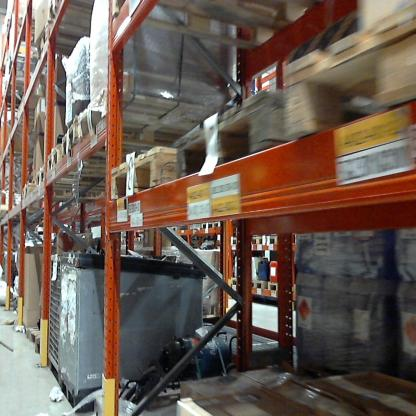pallet: (172, 77, 324, 191), (283, 5, 413, 125), (85, 1, 340, 57), (76, 91, 196, 149), (62, 114, 153, 165), (32, 28, 132, 74), (103, 140, 178, 198), (47, 0, 138, 41), (47, 143, 125, 180), (33, 162, 109, 197), (19, 184, 108, 206), (184, 300, 222, 323), (33, 333, 53, 367), (266, 231, 295, 247), (220, 271, 244, 290), (24, 319, 39, 345), (246, 235, 269, 250), (266, 282, 295, 292), (248, 277, 267, 292), (199, 220, 222, 232), (227, 233, 243, 248)
stillage: (43, 245, 63, 388), (3, 255, 27, 301)
